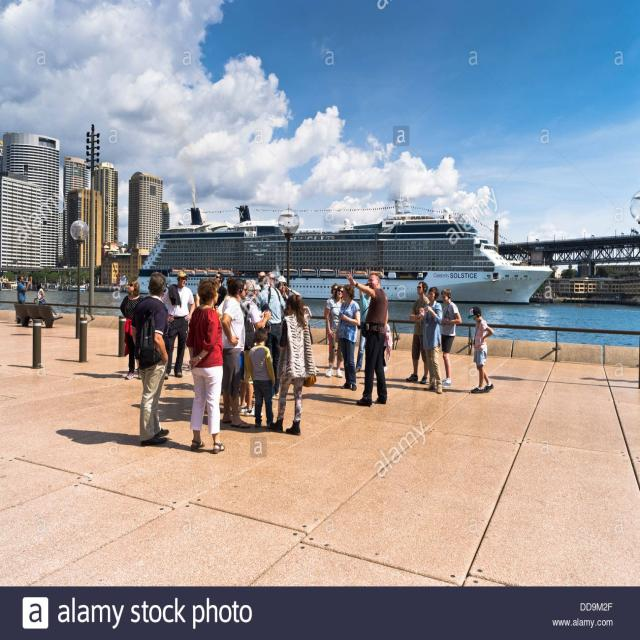body: (130, 271, 172, 448), (185, 275, 226, 456), (344, 271, 394, 408), (274, 292, 317, 436), (220, 277, 252, 428), (238, 278, 272, 418), (55, 427, 209, 453), (160, 271, 196, 380), (256, 275, 287, 400), (130, 397, 242, 430), (246, 325, 277, 432), (334, 282, 362, 391), (405, 280, 431, 385), (419, 285, 444, 394), (118, 278, 144, 381), (466, 303, 495, 395), (440, 288, 462, 388), (324, 284, 344, 379), (286, 382, 358, 407), (386, 374, 471, 394), (355, 282, 372, 374), (324, 282, 339, 356), (73, 368, 129, 382), (274, 275, 301, 303), (382, 319, 394, 374), (248, 269, 275, 292), (212, 271, 228, 309), (302, 301, 314, 346), (16, 275, 32, 305), (164, 380, 194, 392), (34, 281, 47, 306), (316, 365, 344, 376), (170, 360, 190, 375), (195, 286, 200, 309)
